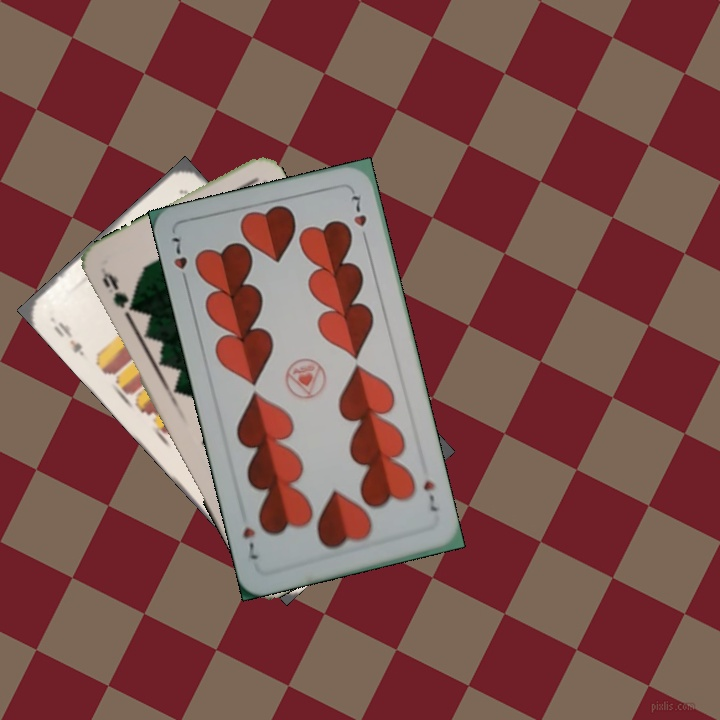E9: (49, 317, 87, 359)
G9: (97, 265, 138, 320)
H7: (168, 232, 191, 289), (419, 476, 440, 514)
